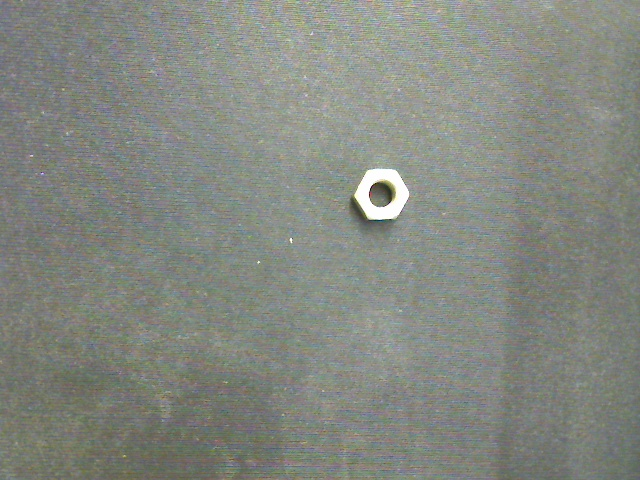Nut: (353, 169, 410, 221)
